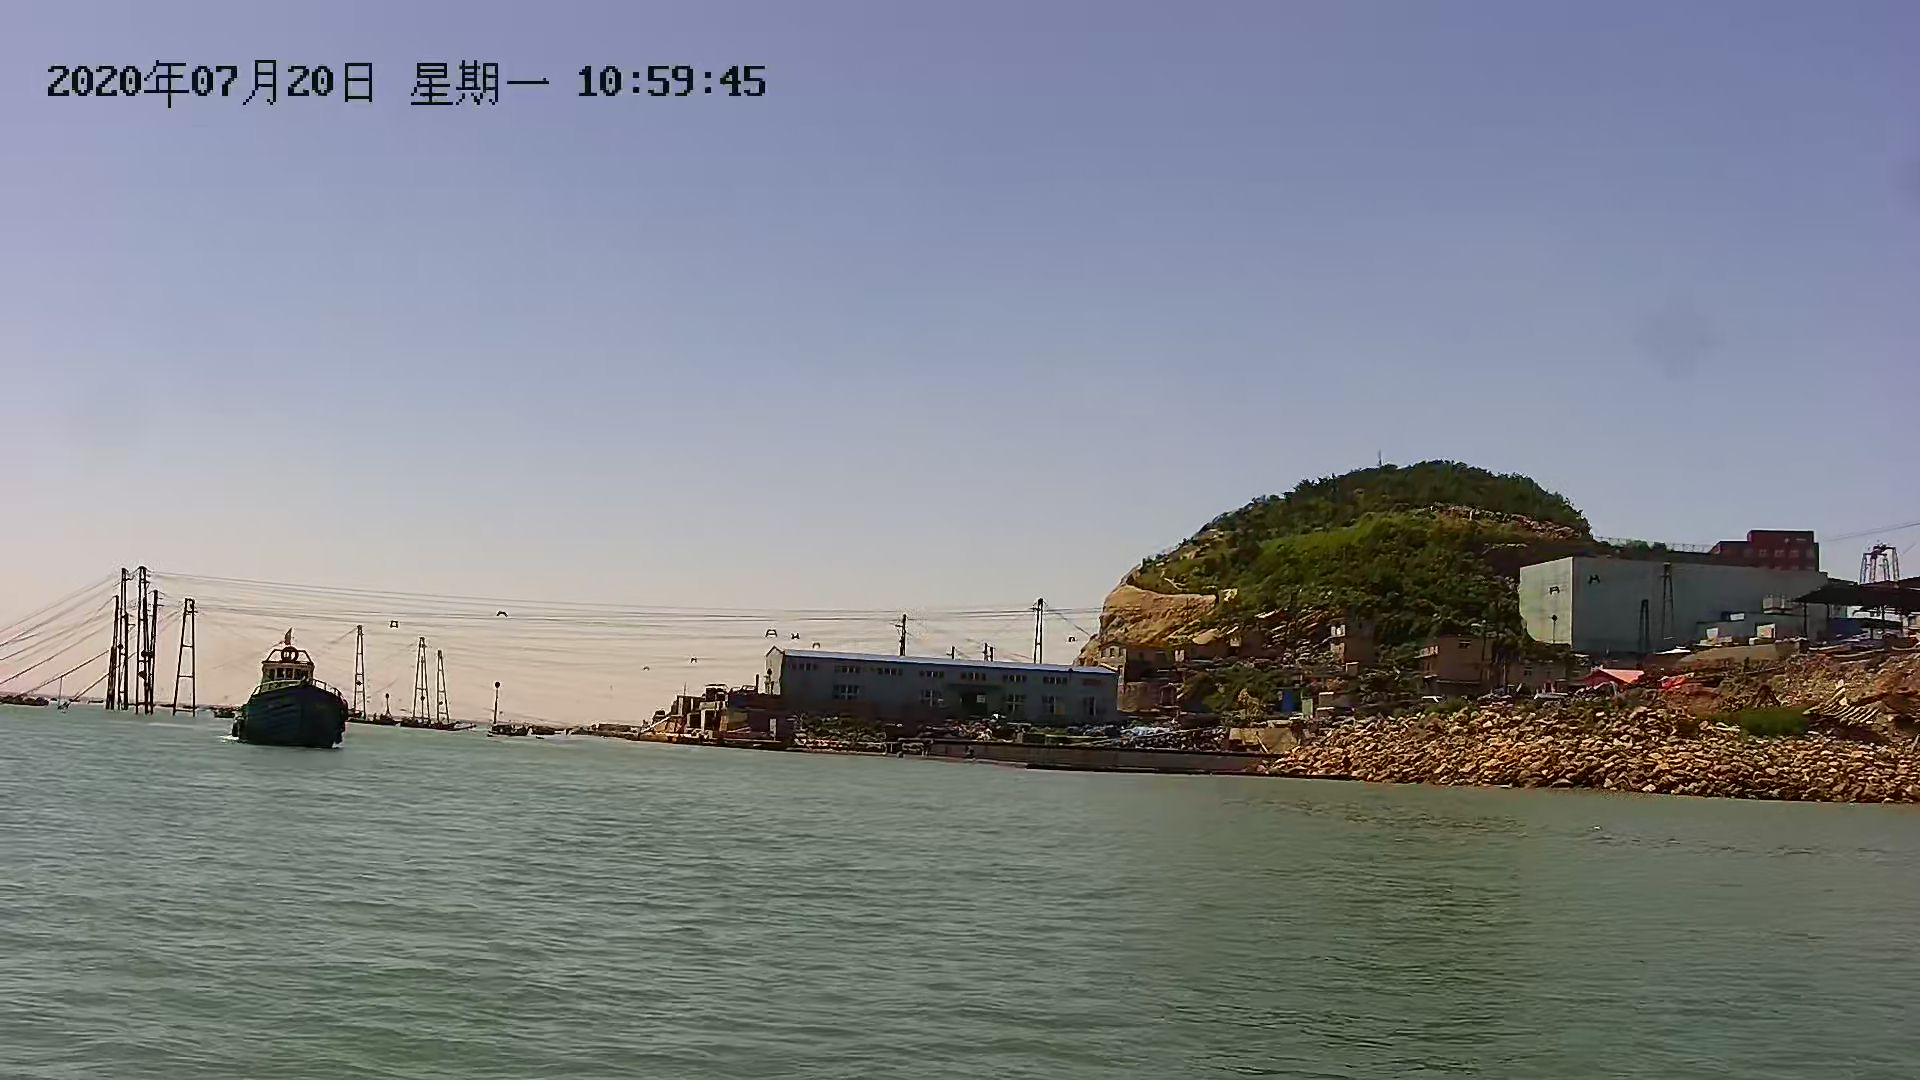mast: (107, 558, 131, 712), (171, 597, 196, 723), (349, 622, 373, 732), (431, 645, 458, 735), (409, 637, 433, 731), (149, 599, 161, 717)
ship: (208, 634, 352, 754)
